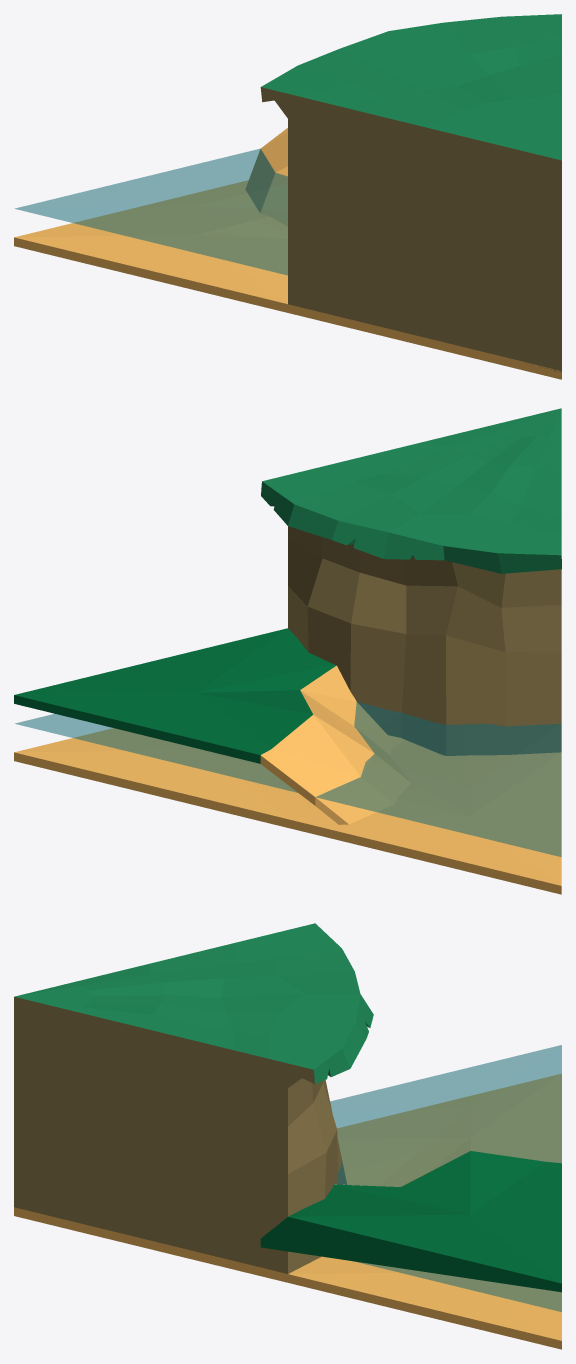
The model's file is tile9.glb.
3 renders of one model, top to bottom at view 1: azimuth 30°, elevation 25°; view 2: azimuth 150°, elevation 25°; view 3: azimuth 270°, elevation 25°, orthographic.
Visible parts, largest first — view 1: hill8.004, sand7.004, water4.005, ground.022; view 2: hill8.004, sand7.004, ground.022, water4.005; view 3: hill8.004, sand7.004, ground.022, water4.005.
Part boxes in pixels (left/top/right/bottom): hill8.004: left=260, top=14, right=561, bottom=372; sand7.004: left=14, top=180, right=561, bottom=379; water4.005: left=15, top=149, right=287, bottom=275; ground.022: left=245, top=128, right=287, bottom=226; hill8.004: left=261, top=408, right=561, bottom=755; sand7.004: left=14, top=728, right=561, bottom=894; ground.022: left=14, top=628, right=410, bottom=824; water4.005: left=15, top=702, right=561, bottom=856; hill8.004: left=14, top=923, right=373, bottom=1273; sand7.004: left=14, top=1073, right=561, bottom=1349; ground.022: left=260, top=1151, right=561, bottom=1292; water4.005: left=330, top=1045, right=561, bottom=1311.
Size of the model in its own units: 1 by 0.39 by 0.866.
